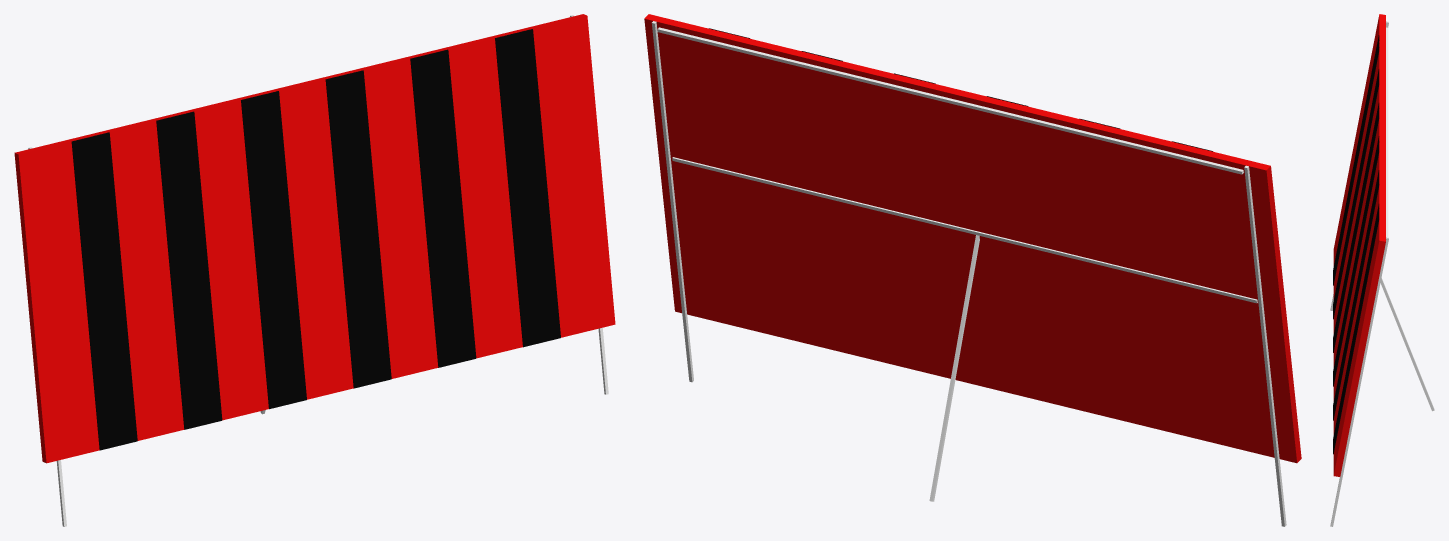
3 renders of one model, left to right at view 1: azimuth 30°, elevation 25°; view 2: azimuth 150°, elevation 25°; view 3: azimuth 270°, elevation 25°, orthographic. The views are drawn at different scales.
Parts seen in each view (by area): view 1: 物件_68.1, 物件_75.1, 物件_74.1, 物件_76.1, 物件_73.1, 物件_77.1, 物件_78.1; view 2: 物件_68.1, 立方体.15, 立方体.17, 立方体.14, 立方体.13, 立方体.16; view 3: 物件_68.1, 物件_74.1, 物件_78.1, 物件_75.1, 物件_73.1, 物件_77.1, 物件_76.1, 立方体.13, 立方体.15, 立方体.16.
Part boxes in pixels (box(x1,y1,x2,y2)): 物件_68.1: box(14, 14, 615, 463); 物件_75.1: box(325, 70, 391, 388); 物件_74.1: box(410, 49, 476, 367); 物件_76.1: box(241, 91, 306, 409); 物件_73.1: box(495, 29, 560, 347); 物件_77.1: box(156, 111, 222, 429); 物件_78.1: box(71, 132, 137, 450); 物件_68.1: box(644, 14, 1301, 463); 立方体.15: box(657, 27, 1243, 174); 立方体.17: box(672, 157, 1257, 303); 立方体.14: box(1244, 165, 1286, 526); 立方体.13: box(651, 21, 693, 382); 立方体.16: box(929, 235, 979, 501); 物件_68.1: box(1333, 14, 1385, 476); 物件_74.1: box(1333, 170, 1379, 420); 物件_78.1: box(1333, 35, 1379, 285); 物件_75.1: box(1333, 136, 1379, 386); 物件_73.1: box(1333, 204, 1379, 454); 物件_77.1: box(1333, 69, 1379, 319); 物件_76.1: box(1333, 103, 1379, 352); 立方体.13: box(1330, 237, 1388, 526); 立方体.15: box(1386, 27, 1388, 238); 立方体.16: box(1380, 278, 1434, 411).
Size of the model in its own units: 14.02 by 8.36 by 2.72.
